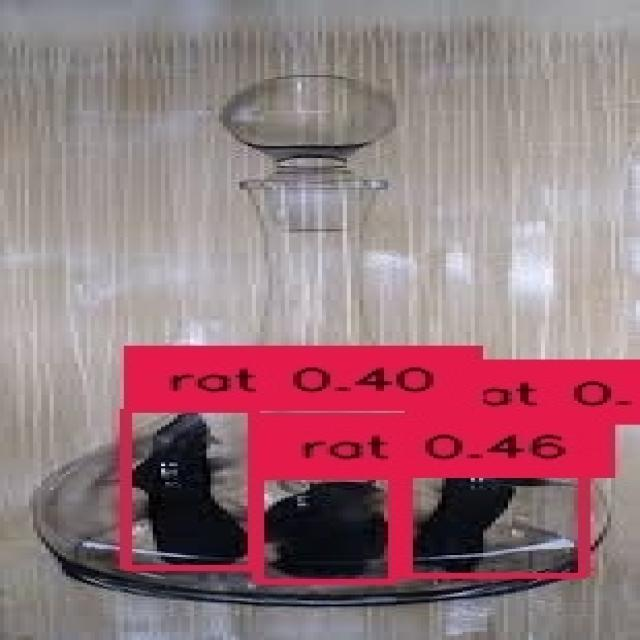rat: (401, 421, 578, 573), (120, 407, 248, 565), (252, 474, 388, 579)
